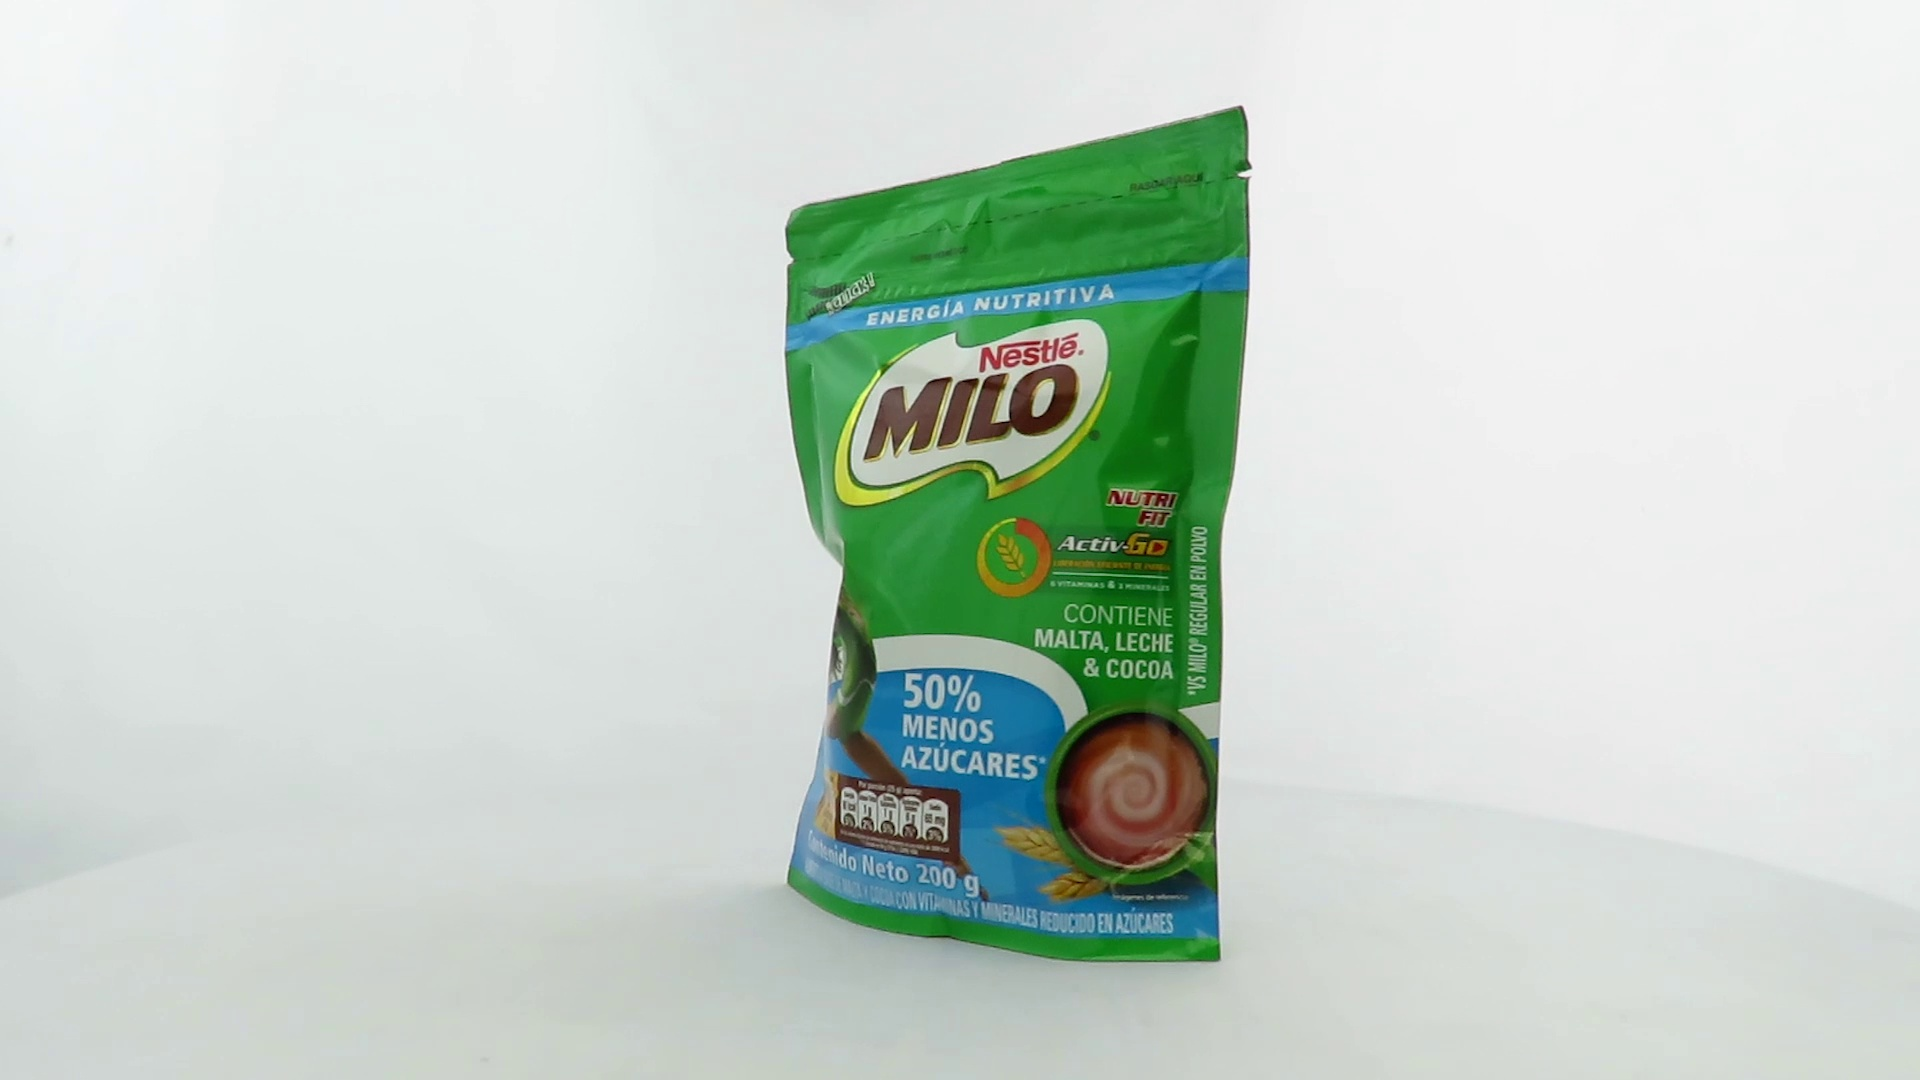COL0170205DYP20000: (779, 100, 1258, 969)
